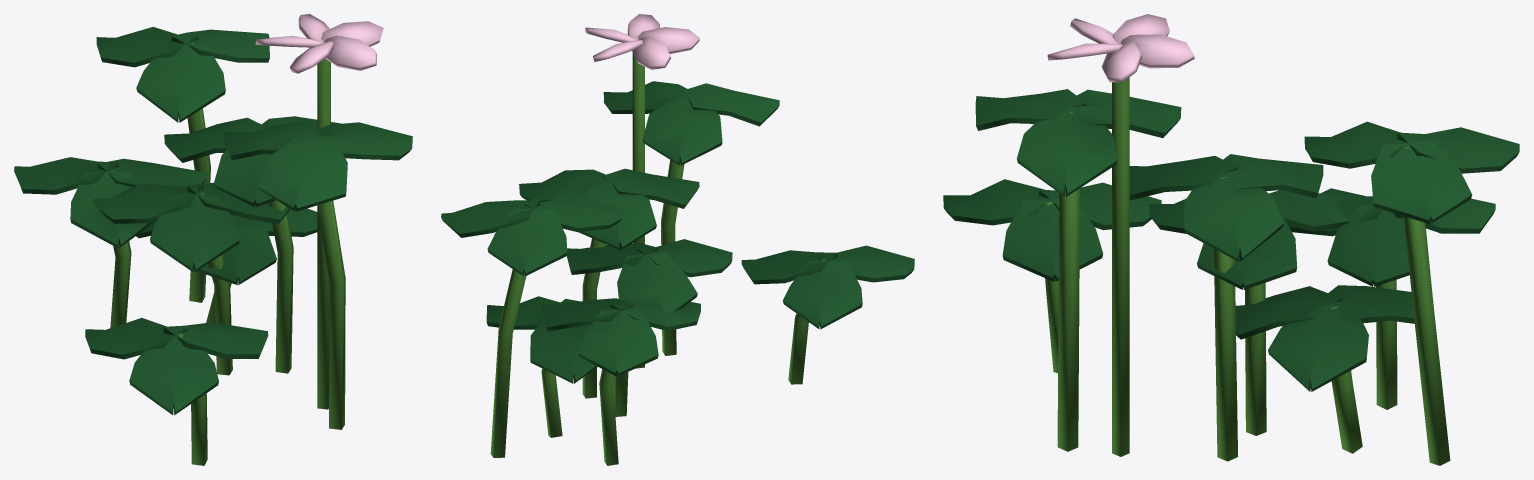
Rendered from canopy_gc_oxalis_a.glb.
The picture shows the model from 3 angles, left to right: view 1: azimuth 30°, elevation 25°; view 2: azimuth 150°, elevation 25°; view 3: azimuth 270°, elevation 25°; orthographic projection. The views are drawn at different scales.
Parts seen in each view (by area): view 1: canopy_gc_oxalis_a; view 2: canopy_gc_oxalis_a; view 3: canopy_gc_oxalis_a.
Boxes of the visible parts, x1,y1,x2,y2 form: canopy_gc_oxalis_a: (14, 14, 412, 465); canopy_gc_oxalis_a: (441, 14, 914, 465); canopy_gc_oxalis_a: (943, 14, 1519, 465).
Size of the model in its own units: 1.45 by 1.56 by 1.95.
